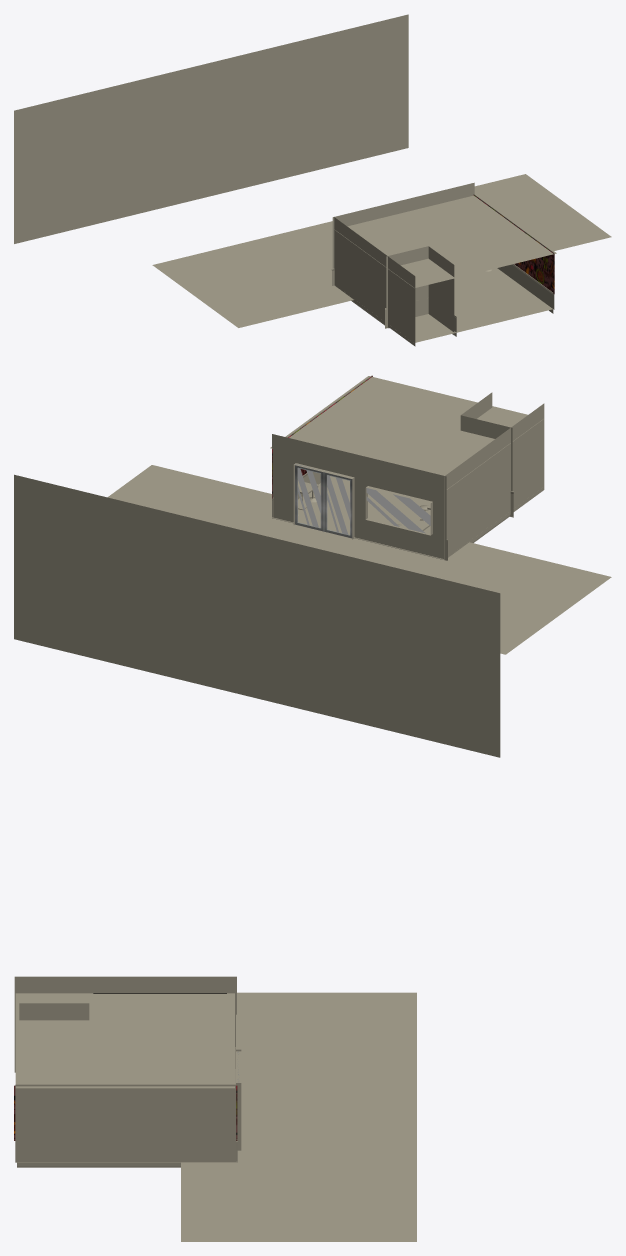
File: Map.fbx
3 views of the same model, one above another, from view 1: azimuth 30°, elevation 25°; view 2: azimuth 150°, elevation 25°; view 3: azimuth 270°, elevation 25° (orthographic). The views are drawn at different scales.
Parts seen in each view (by area): view 1: Shop; view 2: Shop, Door_R, Door_L; view 3: Shop.
Boxes of the visible parts, left/top/right/bottom form: Shop: left=14, top=14, right=611, bottom=346; Shop: left=14, top=375, right=611, bottom=757; Door_R: left=294, top=464, right=324, bottom=531; Door_L: left=323, top=472, right=352, bottom=538; Shop: left=14, top=976, right=416, bottom=1241.
Bounding box in the file's own units: 2233 × 647 × 1921.
